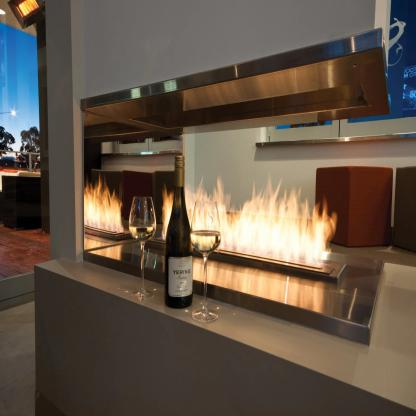fire: (77, 180, 338, 286)
